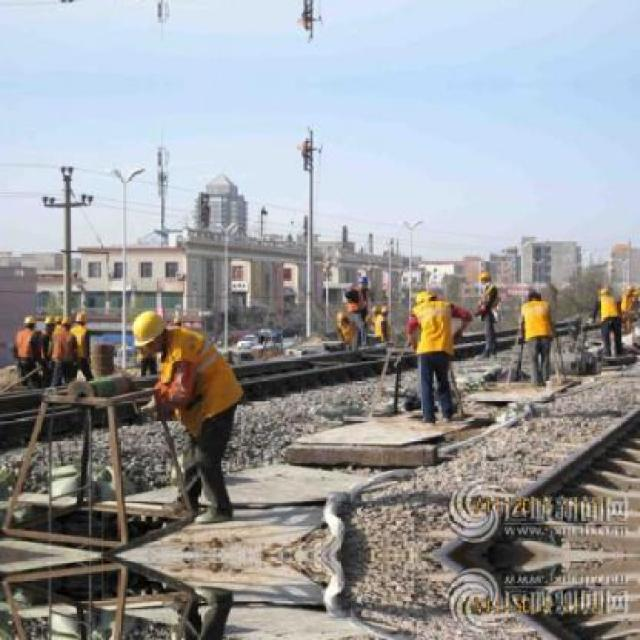helmet: (127, 304, 168, 350), (40, 312, 54, 334), (478, 266, 492, 285), (74, 306, 86, 328), (23, 308, 35, 328), (59, 314, 73, 329)
